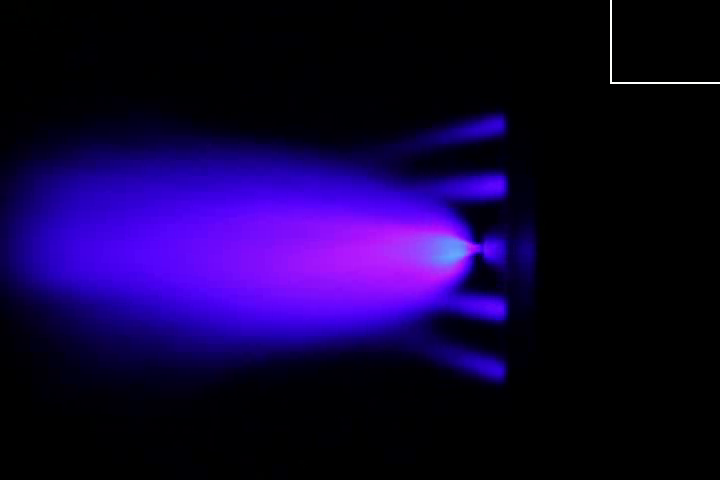burner cap: (480, 231, 511, 268)
pilot flame: (423, 342, 507, 383), (399, 116, 504, 147), (415, 172, 511, 202), (438, 287, 505, 322)
stable: (409, 229, 477, 280)
